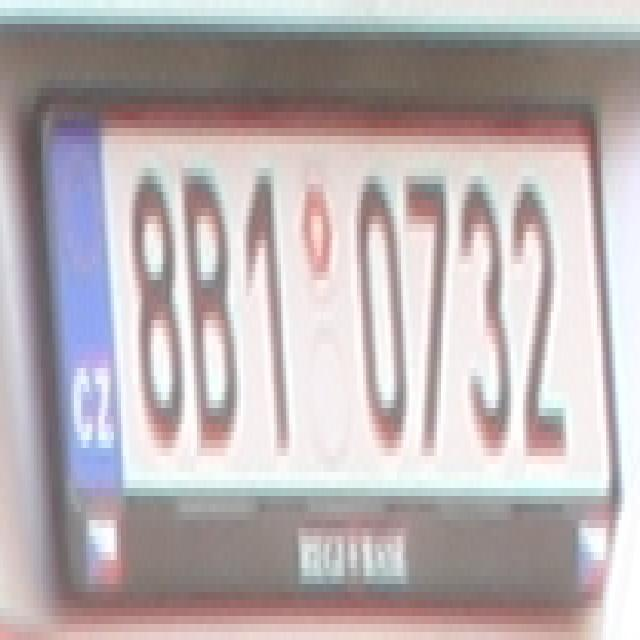0: (351, 176, 406, 456)
1: (246, 168, 289, 464)
2: (514, 168, 572, 464)
3: (458, 168, 511, 448)
7: (410, 160, 456, 456)
8: (126, 160, 185, 456)
B: (181, 160, 234, 472)
